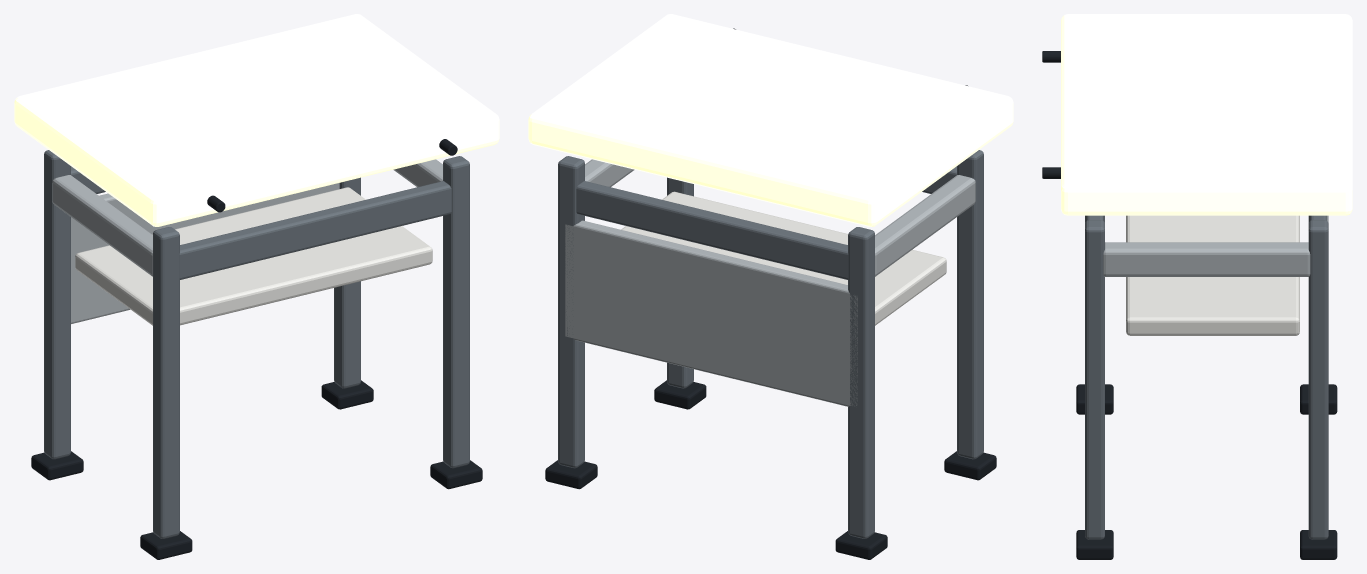
The model's file is prop_marine_classroom_desk_a_v01.glb.
3 views of the same model, side by side, from view 1: azimuth 30°, elevation 25°; view 2: azimuth 150°, elevation 25°; view 3: azimuth 270°, elevation 25° (orthographic). The views are drawn at different scales.
Parts seen in each view (by area): view 1: component__work_surface__work_surface, component__storage_shelf_or_modesty_panel__under_shelf, component__frame__front_frame_rail, component__legs__leg.001, component__legs__leg.003, component__legs__leg.002, component__storage_shelf_or_modesty_panel__modesty_panel, component__frame__side_frame_rail.001, component__legs__leg, component__feet__floor_glide, component__feet__floor_glide.001, component__feet__floor_glide.002 (+2 smaller); view 2: component__work_surface__work_surface, component__storage_shelf_or_modesty_panel__modesty_panel, component__frame__rear_frame_rail, component__legs__leg.002, component__legs__leg.001, component__storage_shelf_or_modesty_panel__under_shelf, component__legs__leg, component__frame__side_frame_rail.001, component__feet__floor_glide.003, component__feet__floor_glide.001, component__feet__floor_glide.002, component__feet__floor_glide (+2 smaller); view 3: component__work_surface__work_surface, component__storage_shelf_or_modesty_panel__under_shelf, component__frame__side_frame_rail, component__legs__leg, component__legs__leg.003, component__feet__floor_glide, component__feet__floor_glide.003, component__feet__floor_glide.002, component__feet__floor_glide.001.
Part boxes in pixels (x1=…): component__work_surface__work_surface: x1=14, y1=14, x2=499, y2=226; component__storage_shelf_or_modesty_panel__under_shelf: x1=75, y1=187, x2=432, y2=325; component__frame__front_frame_rail: x1=179, y1=181, x2=451, y2=279; component__legs__leg.001: x1=153, y1=227, x2=179, y2=538; component__legs__leg.003: x1=443, y1=156, x2=469, y2=468; component__legs__leg.002: x1=44, y1=150, x2=70, y2=459; component__storage_shelf_or_modesty_panel__modesty_panel: x1=71, y1=183, x2=339, y2=323; component__frame__side_frame_rail.001: x1=52, y1=175, x2=152, y2=276; component__legs__leg: x1=334, y1=177, x2=360, y2=388; component__feet__floor_glide: x1=321, y1=380, x2=373, y2=409; component__feet__floor_glide.001: x1=140, y1=531, x2=192, y2=559; component__feet__floor_glide.002: x1=31, y1=451, x2=83, y2=480; component__work_surface__work_surface: x1=528, y1=14, x2=1013, y2=226; component__storage_shelf_or_modesty_panel__modesty_panel: x1=565, y1=220, x2=857, y2=406; component__frame__rear_frame_rail: x1=576, y1=181, x2=848, y2=279; component__legs__leg.002: x1=848, y1=227, x2=874, y2=538; component__legs__leg.001: x1=957, y1=150, x2=983, y2=459; component__storage_shelf_or_modesty_panel__under_shelf: x1=621, y1=191, x2=946, y2=325; component__legs__leg: x1=558, y1=156, x2=584, y2=468; component__frame__side_frame_rail.001: x1=875, y1=175, x2=975, y2=276; component__feet__floor_glide.003: x1=654, y1=380, x2=706, y2=409; component__feet__floor_glide.001: x1=944, y1=451, x2=996, y2=480; component__feet__floor_glide.002: x1=835, y1=531, x2=887, y2=559; component__feet__floor_glide: x1=545, y1=460, x2=597, y2=489; component__work_surface__work_surface: x1=1061, y1=14, x2=1352, y2=215; component__storage_shelf_or_modesty_panel__under_shelf: x1=1126, y1=215, x2=1299, y2=335; component__frame__side_frame_rail: x1=1103, y1=242, x2=1310, y2=276; component__legs__leg: x1=1308, y1=220, x2=1328, y2=539; component__legs__leg.003: x1=1085, y1=220, x2=1104, y2=539; component__feet__floor_glide: x1=1300, y1=530, x2=1337, y2=559; component__feet__floor_glide.003: x1=1076, y1=530, x2=1113, y2=559; component__feet__floor_glide.002: x1=1300, y1=384, x2=1337, y2=414; component__feet__floor_glide.001: x1=1076, y1=384, x2=1113, y2=414.
Size of the model in its own units: 0.6912 by 0.7026 by 0.52.
